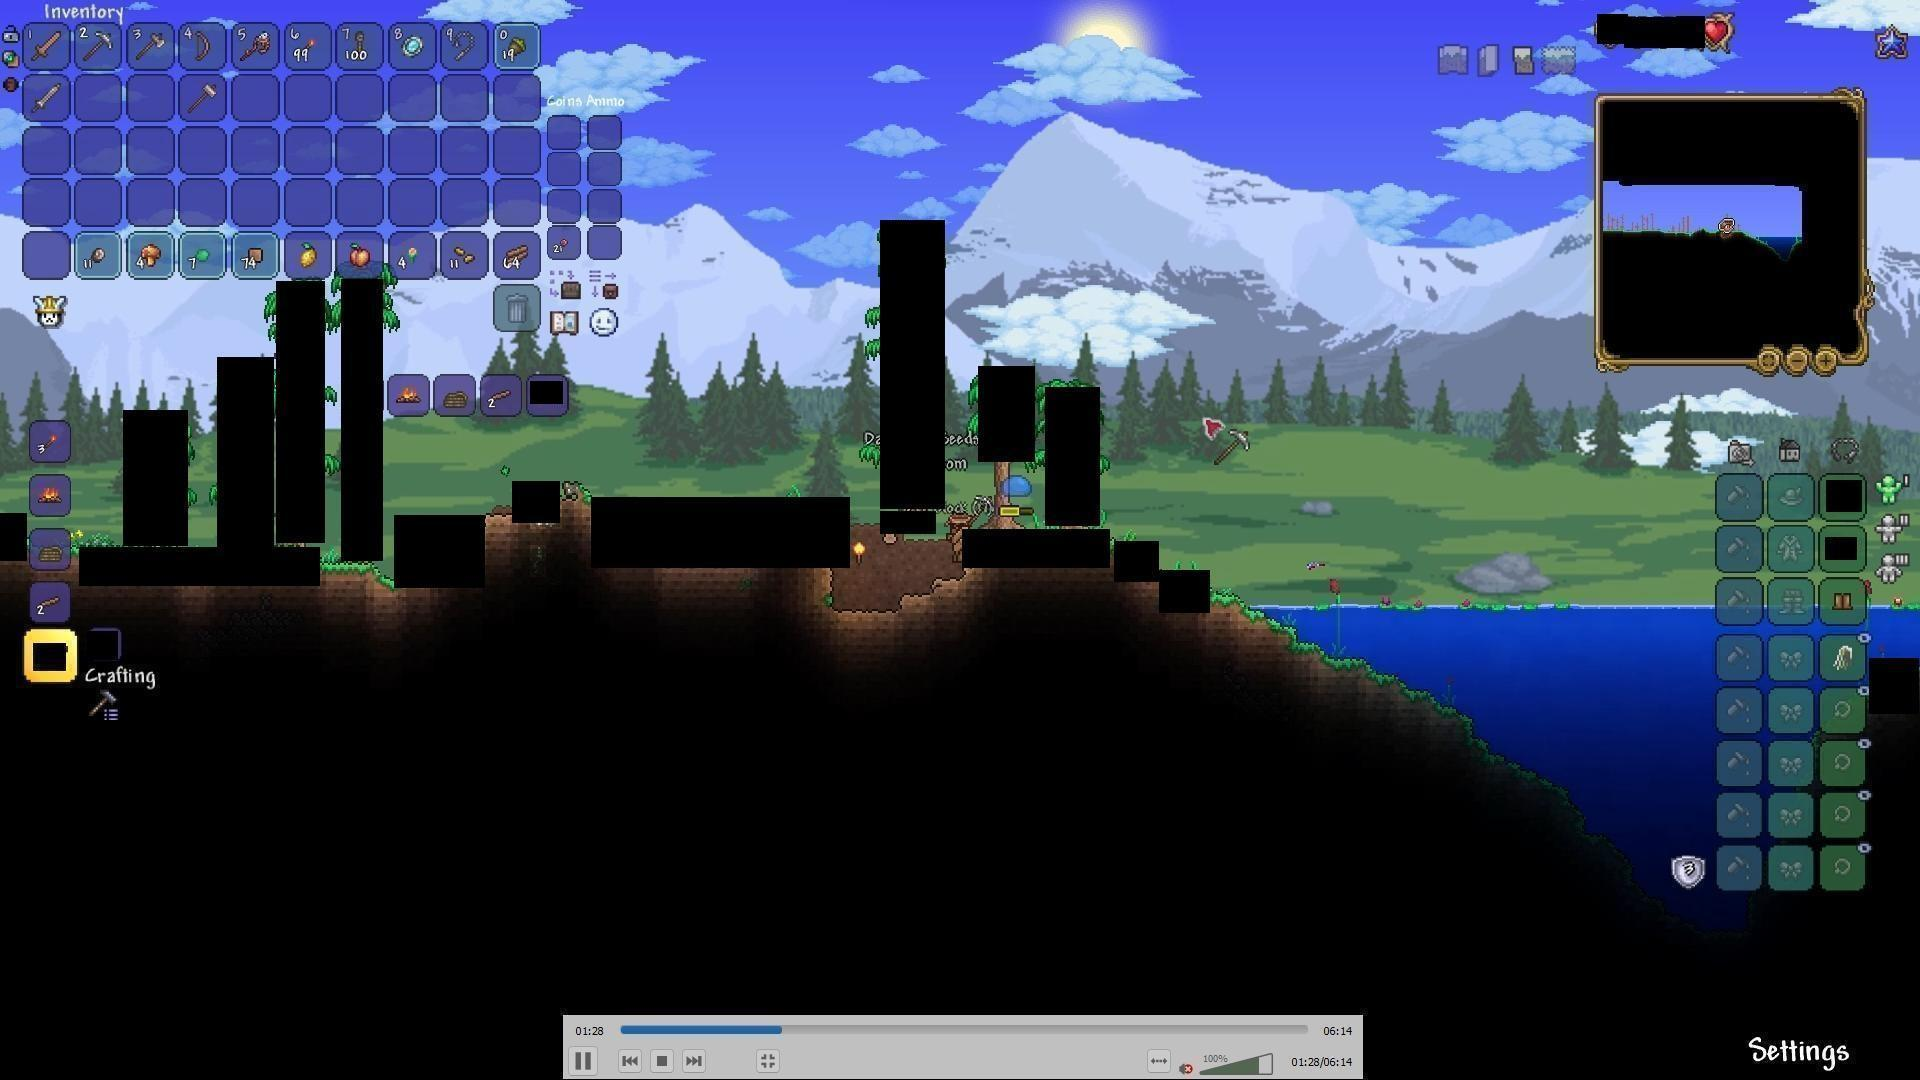dirt: (1212, 591, 1317, 661), (318, 560, 386, 600)
heart: (1704, 17, 1730, 47)
legs: (1830, 588, 1855, 618)
slime: (1000, 469, 1035, 500)
wood: (498, 241, 529, 269)
